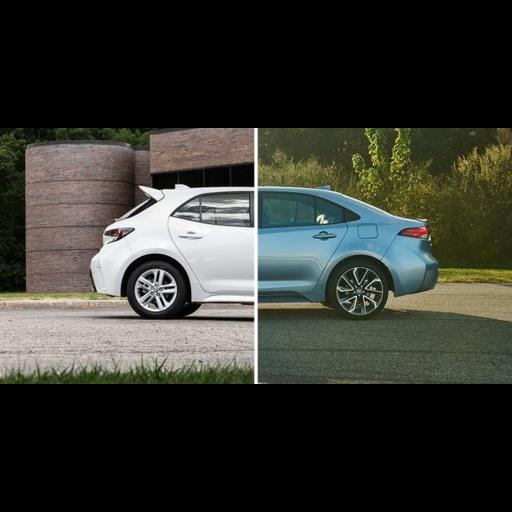hatchback: (92, 185, 257, 316)
sedan: (260, 186, 439, 319)
